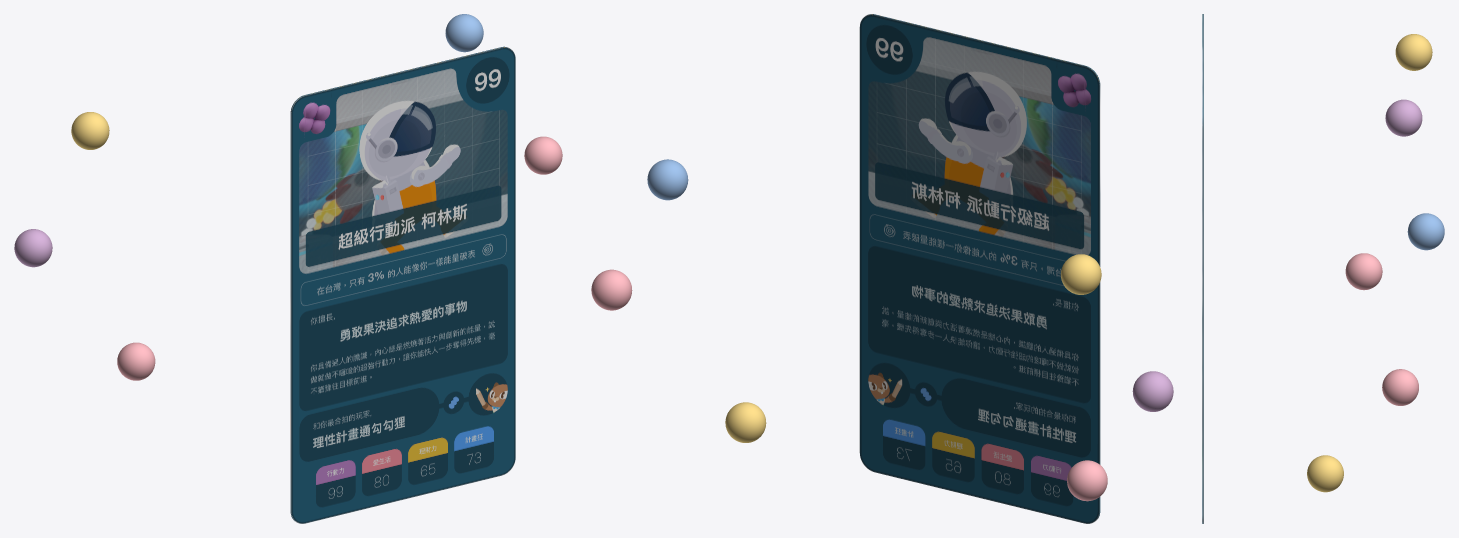
File: 0817_Motion&Balls_Position.glb
3 renders of one model, left to right at view 1: azimuth 30°, elevation 25°; view 2: azimuth 150°, elevation 25°; view 3: azimuth 270°, elevation 25°, orthographic. The views are drawn at different scales.
Visible parts, largest first — view 1: 形狀_1_4, Sphere.2, Sphere.3, Sphere.1, Sphere, Sphere.5; view 2: 形狀_1_4, Sphere.3, Sphere.2, Sphere.1, Sphere.4, Sphere, Sphere.5; view 3: Sphere, Sphere.4, Sphere.3, Sphere.1, Sphere.5, Sphere.2, 形狀_1_4.
Part boxes in pixels (x1,y1,x2,y2): 形狀_1_4: [290, 46, 515, 523]; Sphere.2: [524, 136, 562, 174]; Sphere.3: [445, 14, 483, 52]; Sphere.1: [117, 342, 155, 380]; Sphere: [14, 229, 52, 267]; Sphere.5: [71, 112, 109, 149]; 形狀_1_4: [859, 14, 1100, 523]; Sphere.3: [647, 159, 688, 200]; Sphere.2: [591, 269, 632, 310]; Sphere.1: [1067, 460, 1107, 501]; Sphere.4: [725, 402, 766, 442]; Sphere: [1132, 371, 1173, 411]; Sphere.5: [1060, 254, 1101, 294]; Sphere: [1385, 99, 1422, 136]; Sphere.4: [1307, 455, 1343, 492]; Sphere.3: [1407, 213, 1444, 250]; Sphere.1: [1345, 253, 1382, 290]; Sphere.5: [1395, 34, 1432, 70]; Sphere.2: [1382, 369, 1418, 405]; 形狀_1_4: [1202, 14, 1203, 523].
Size of the model in its own units: 2.54 by 1.92 by 1.02.
Materials: 5 (1 with a texture image).
